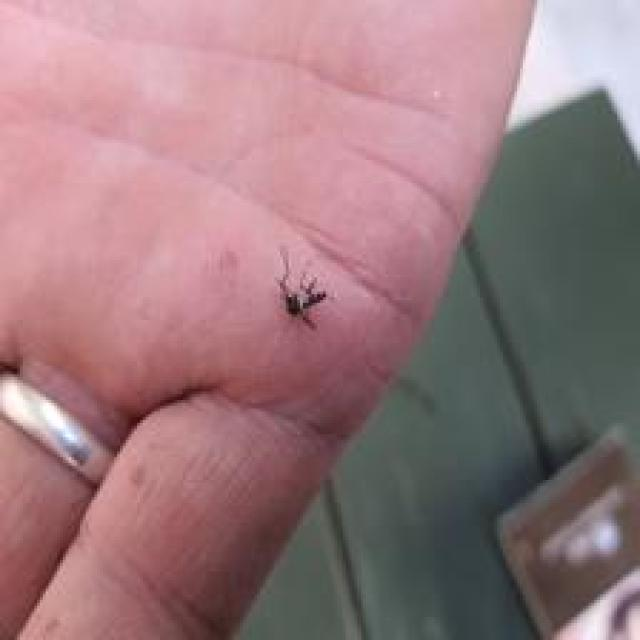Aedes albopictus: (274, 247, 329, 330)
